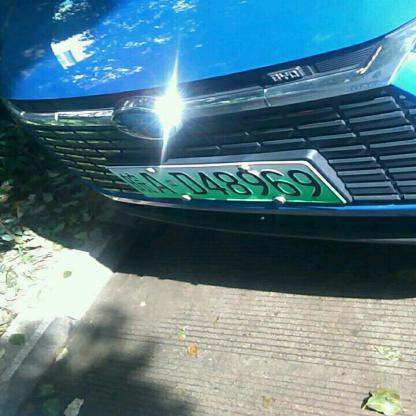lp: (105, 163, 344, 202)
